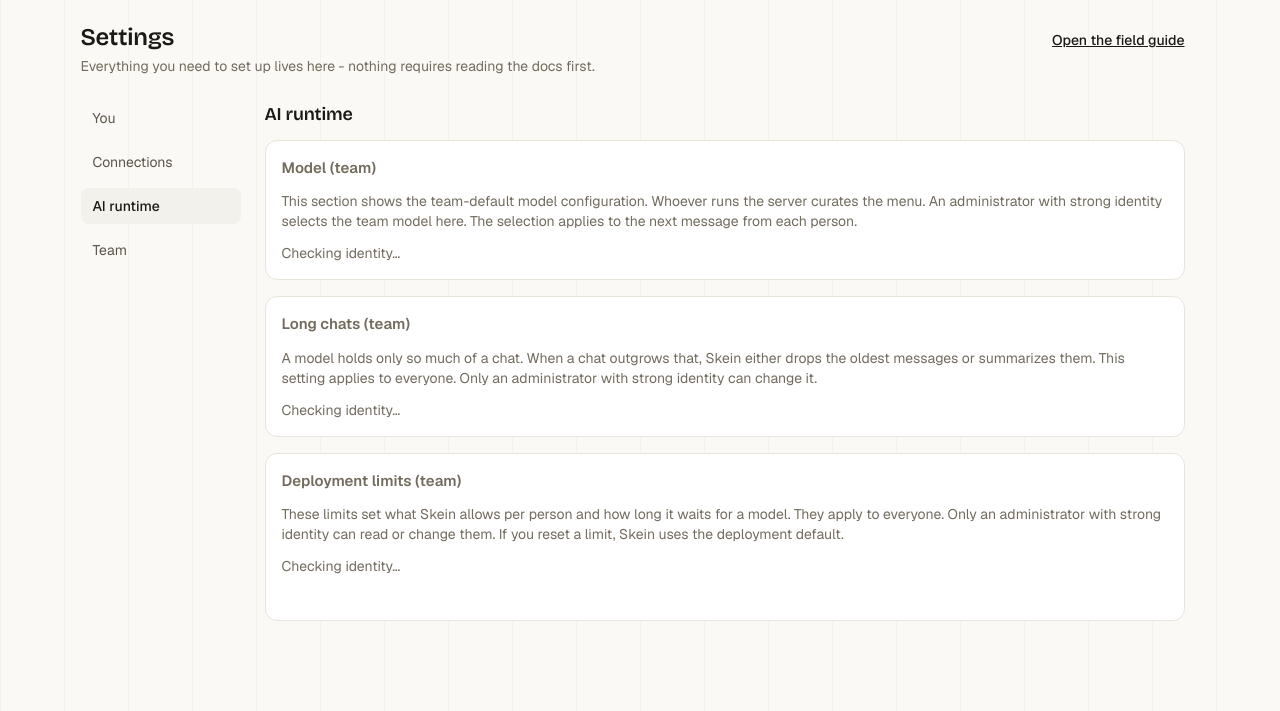
it: the model section › releases a model write when its result stays unknown
The width and height of the screenshot is (1280, 711).
Click the link "AI runtime" at (160, 206), box 80,188 -> 240,224
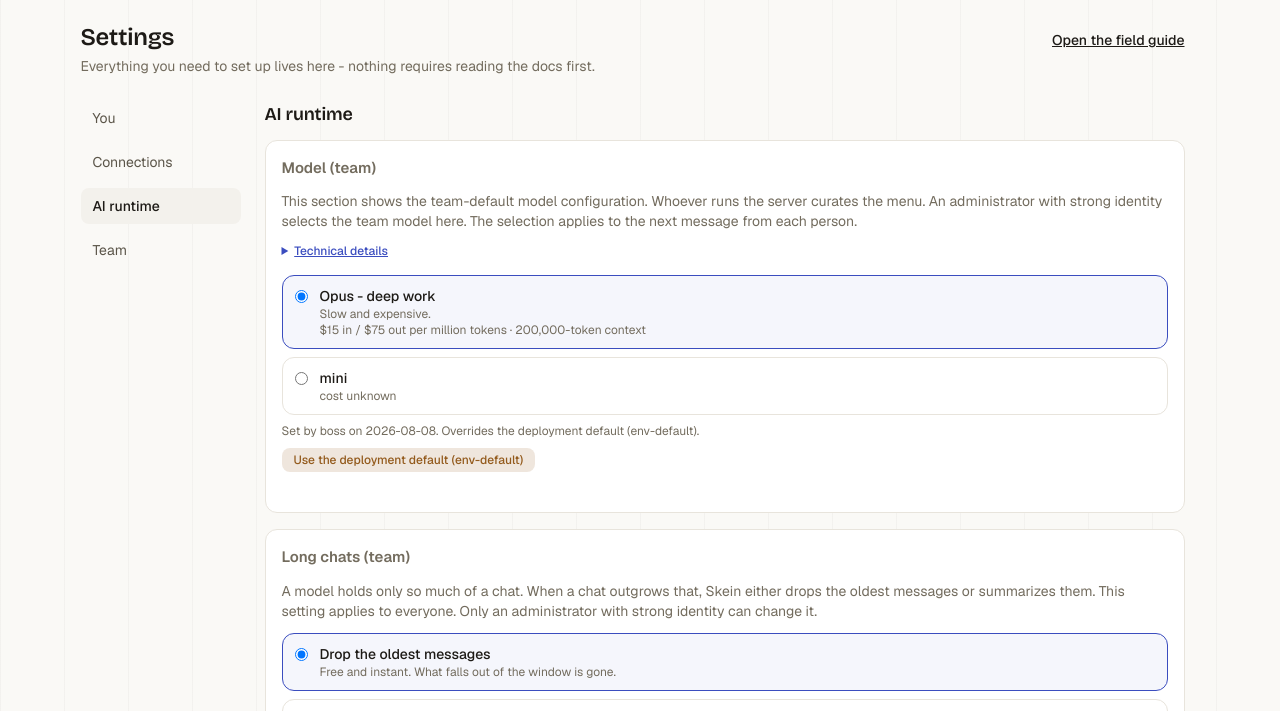
Click the radio button labelled "mini cost unknown" at (301, 379), box 294,372 -> 308,385
Wait 30000 ms
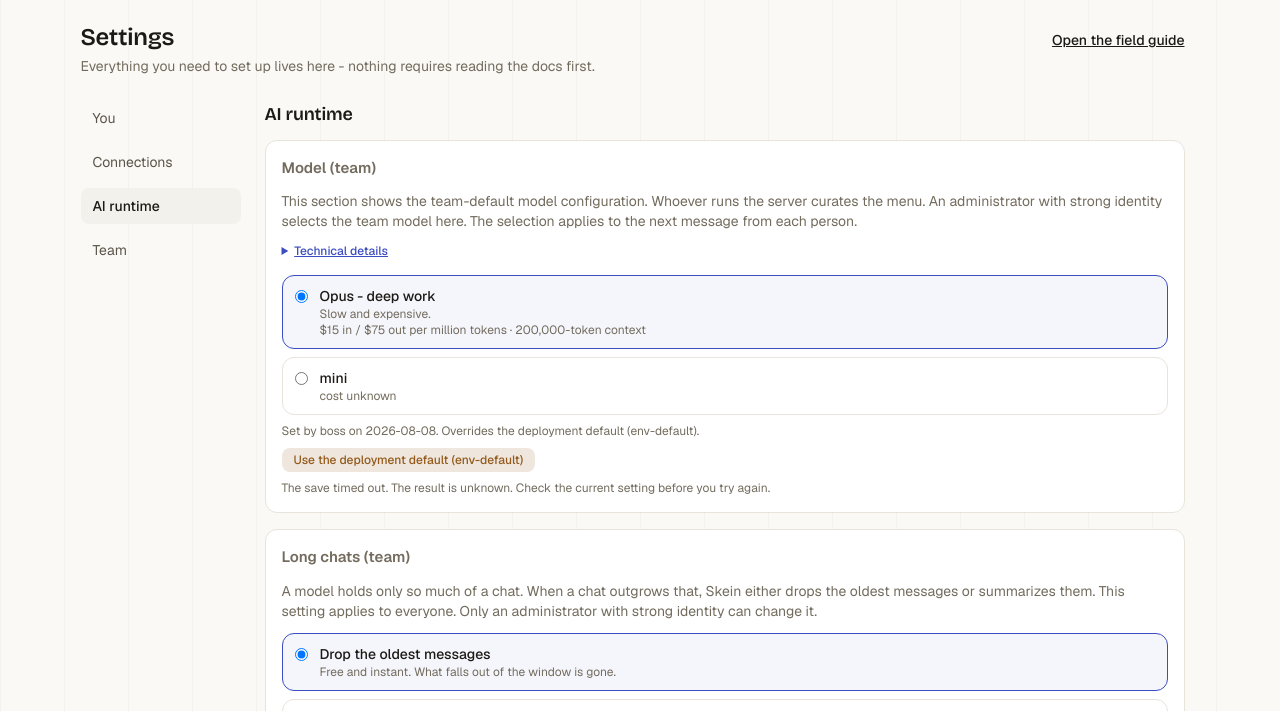
expect the text "The save timed out. The result is unknown. Check the current setting before you try again." is shown: met, box 282,480 -> 770,496
